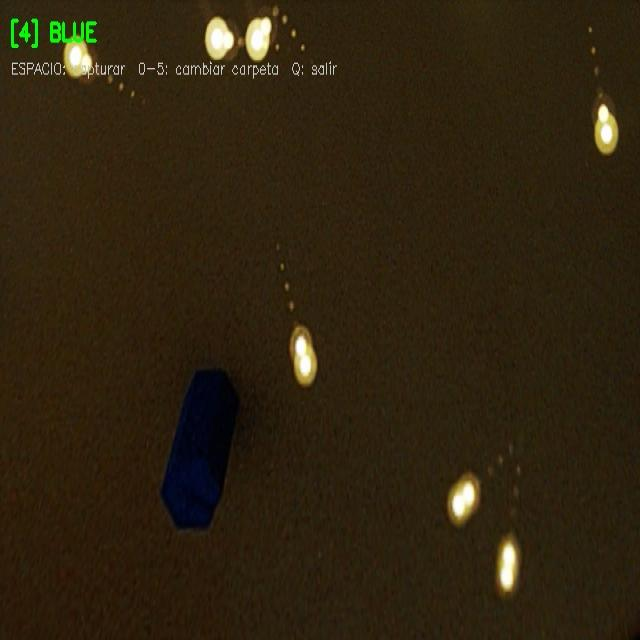blue: (161, 369, 238, 528)
